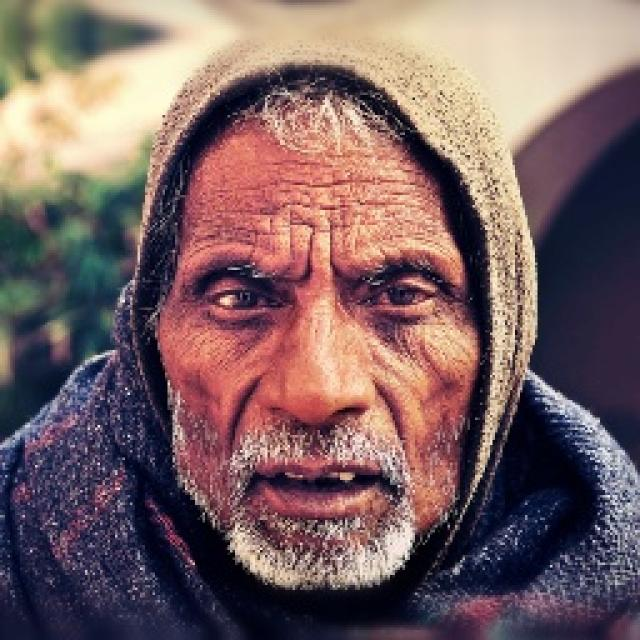no-glasses: (181, 248, 462, 340)
